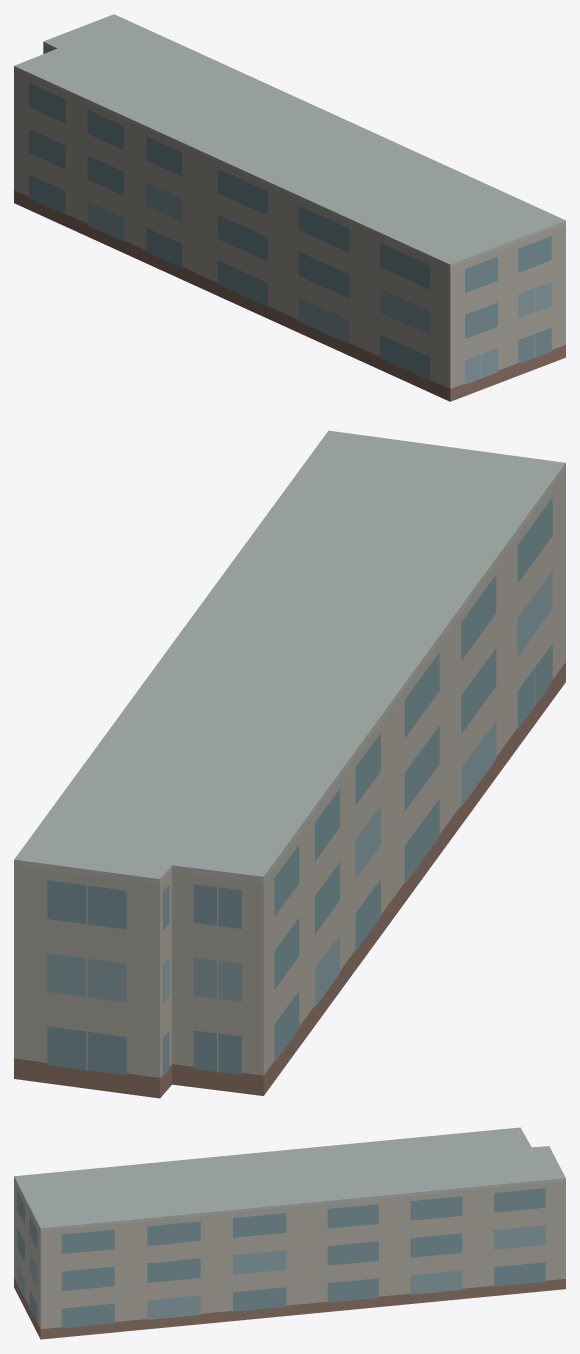
Rendered from survey-upis-32995903.glb.
3 renders of one model, top to bottom at view 1: azimuth 30°, elevation 25°; view 2: azimuth 150°, elevation 25°; view 3: azimuth 270°, elevation 25°, orthographic. The views are drawn at different scales.
Parts seen in each view (by area): view 1: survey-upis-32995903.tmp; view 2: survey-upis-32995903.tmp; view 3: survey-upis-32995903.tmp.
Boxes of the visible parts, x1,y1,x2,y2 form: survey-upis-32995903.tmp: (14, 14, 565, 401); survey-upis-32995903.tmp: (14, 430, 565, 1098); survey-upis-32995903.tmp: (14, 1127, 565, 1339).
Size of the model in its own units: 17.85 by 9.15 by 41.2.
